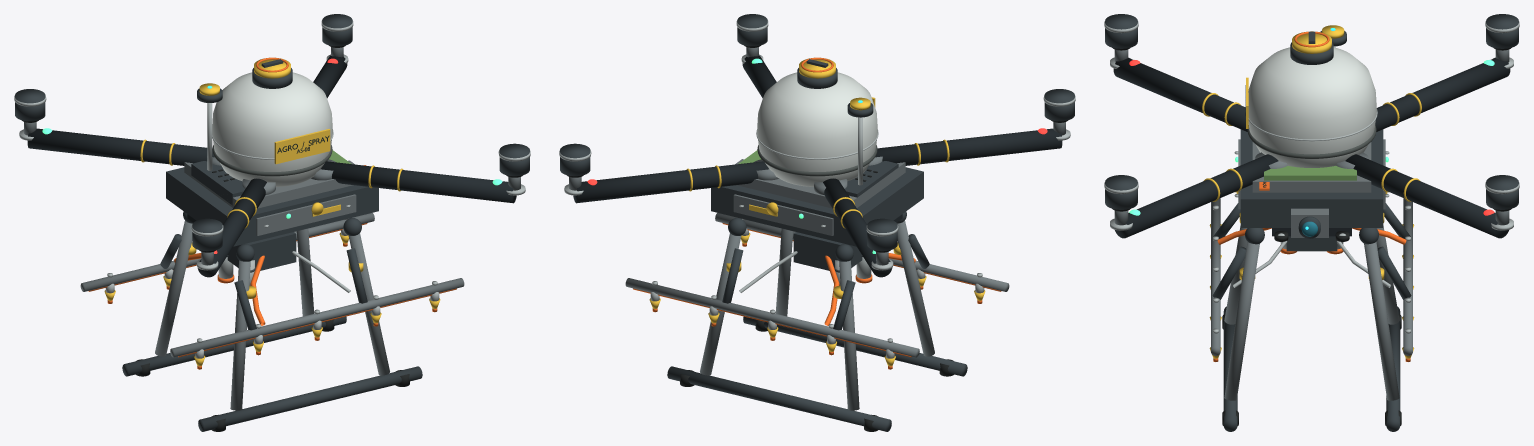
Rendered from drone_agricola.glb.
3 views of the same model, side by side, from view 1: azimuth 30°, elevation 25°; view 2: azimuth 150°, elevation 25°; view 3: azimuth 270°, elevation 25° (orthographic). The views are drawn at different scales.
Visible parts, largest first — view 1: Reservatório agrícola moldado | 35 L, Chassi central inferior, Braço estrutural de carbono 04, Braço estrutural de carbono 02, Patim de pouso reforçado, Barra de pulverização em alumínio, Braço estrutural de carbono 03, Painel lateral de proteção, Perna dianteira/traseira do trem de pouso.002, Patim de pouso reforçado.001, Barra de pulverização em alumínio.001, Módulo da bomba de pulverização (+14 smaller); view 2: Reservatório agrícola moldado | 35 L, Chassi central inferior, Braço estrutural de carbono 01, Braço estrutural de carbono 03, Patim de pouso reforçado.001, Barra de pulverização em alumínio.001, Braço estrutural de carbono 02, Placa estrutural superior, Painel lateral de proteção.001, Perna dianteira/traseira do trem de pouso, Patim de pouso reforçado, Barra de pulverização em alumínio (+13 smaller); view 3: Reservatório agrícola moldado | 35 L, Chassi central inferior, Braço estrutural de carbono 01, Braço estrutural de carbono 04, Braço estrutural de carbono 02, Braço estrutural de carbono 03, Perna dianteira/traseira do trem de pouso.001, Perna dianteira/traseira do trem de pouso.003, Placa estrutural superior, Barra de pulverização em alumínio, Barra de pulverização em alumínio.001, Carenagem frontal do controle (+15 smaller).
Boxes of the visible parts, x1,y1,x2,y2 form: Reservatório agrícola moldado | 35 L: [212, 72, 332, 186]; Chassi central inferior: [166, 167, 378, 246]; Braço estrutural de carbono 04: [321, 161, 516, 203]; Braço estrutural de carbono 02: [27, 128, 214, 165]; Patim de pouso reforçado: [198, 366, 422, 431]; Barra de pulverização em alumínio: [170, 278, 464, 357]; Braço estrutural de carbono 03: [197, 178, 266, 277]; Painel lateral de proteção: [256, 194, 356, 235]; Perna dianteira/traseira do trem de pouso.002: [155, 220, 192, 356]; Patim de pouso reforçado.001: [122, 316, 346, 376]; Barra de pulverização em alumínio.001: [80, 213, 374, 291]; Módulo da bomba de pulverização: [227, 232, 296, 270]; Reservatório agrícola moldado | 35 L: [757, 72, 877, 186]; Chassi central inferior: [711, 167, 923, 246]; Braço estrutural de carbono 01: [573, 161, 768, 203]; Braço estrutural de carbono 03: [875, 128, 1062, 165]; Patim de pouso reforçado.001: [667, 366, 891, 431]; Barra de pulverização em alumínio.001: [625, 278, 919, 357]; Braço estrutural de carbono 02: [823, 178, 892, 277]; Placa estrutural superior: [736, 162, 905, 208]; Painel lateral de proteção.001: [733, 194, 833, 235]; Perna dianteira/traseira do trem de pouso: [897, 220, 934, 356]; Patim de pouso reforçado: [743, 316, 967, 376]; Barra de pulverização em alumínio: [715, 213, 1009, 291]; Reservatório agrícola moldado | 35 L: [1248, 47, 1376, 167]; Chassi central inferior: [1240, 129, 1383, 227]; Braço estrutural de carbono 01: [1345, 154, 1508, 238]; Braço estrutural de carbono 04: [1115, 154, 1278, 238]; Braço estrutural de carbono 02: [1375, 58, 1510, 131]; Braço estrutural de carbono 03: [1113, 58, 1247, 131]; Perna dianteira/traseira do trem de pouso.001: [1224, 242, 1259, 400]; Perna dianteira/traseira do trem de pouso.003: [1364, 242, 1399, 400]; Placa estrutural superior: [1252, 142, 1371, 192]; Barra de pulverização em alumínio: [1211, 198, 1220, 355]; Barra de pulverização em alumínio.001: [1403, 198, 1412, 355]; Carenagem frontal do controle: [1264, 166, 1356, 180].
Size of the model in its own units: 3.93 by 3.55 by 3.93.
